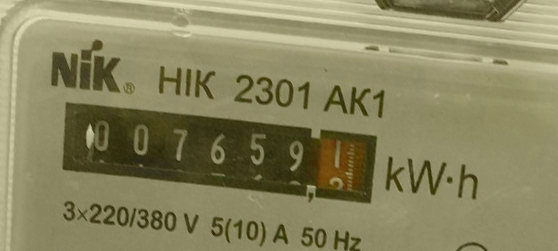0: (89, 115, 115, 157), (128, 120, 155, 160)
1: (328, 135, 348, 173)
5: (245, 130, 270, 169)
6: (205, 129, 232, 168)
7: (165, 124, 191, 165)
9: (283, 137, 308, 176)
screen: (47, 88, 390, 220)
